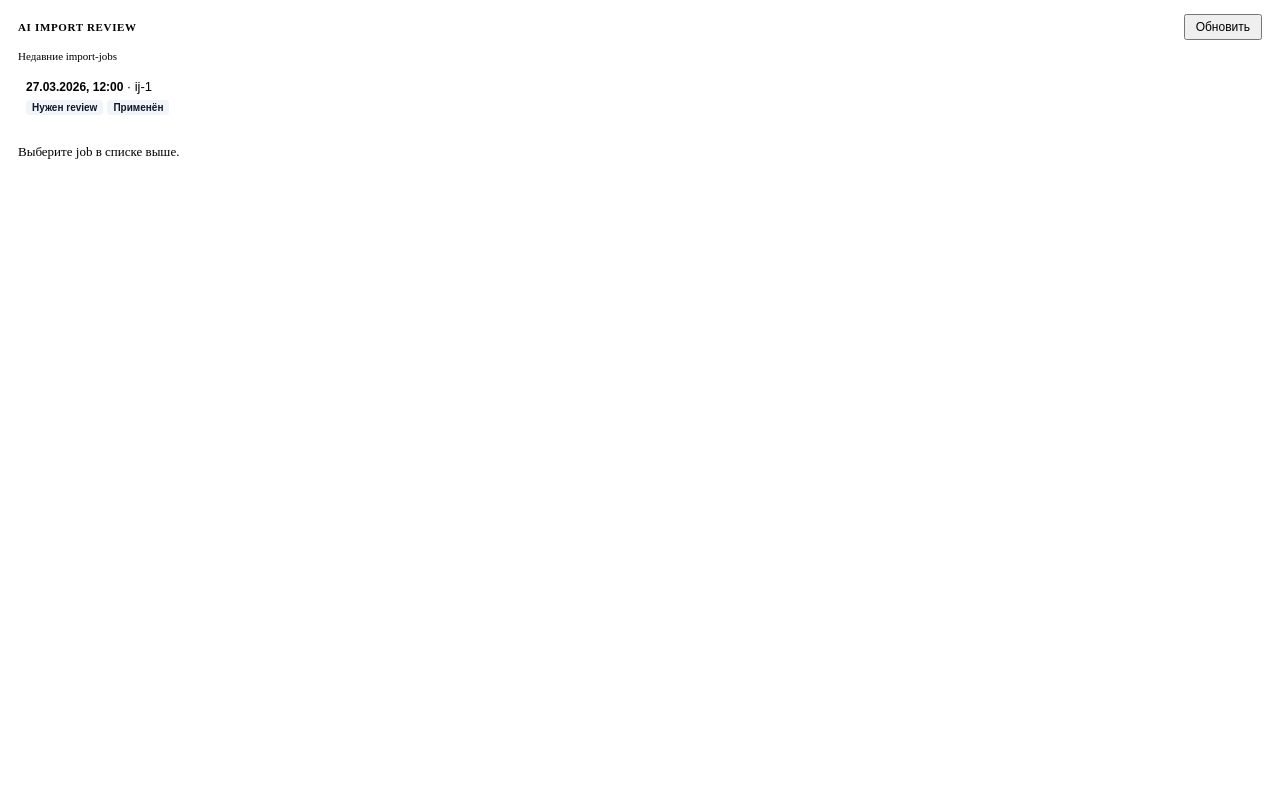
Test case: ImportReviewPanel integration › prepare candidate calls API after review applied
The image size is (1280, 796).
Later steps or results of the test are not shown.
Click the button with test id "ir-job-row-ij-1": (75, 86) x1=18 y1=70 x2=1262 y2=125
(page scrolled)
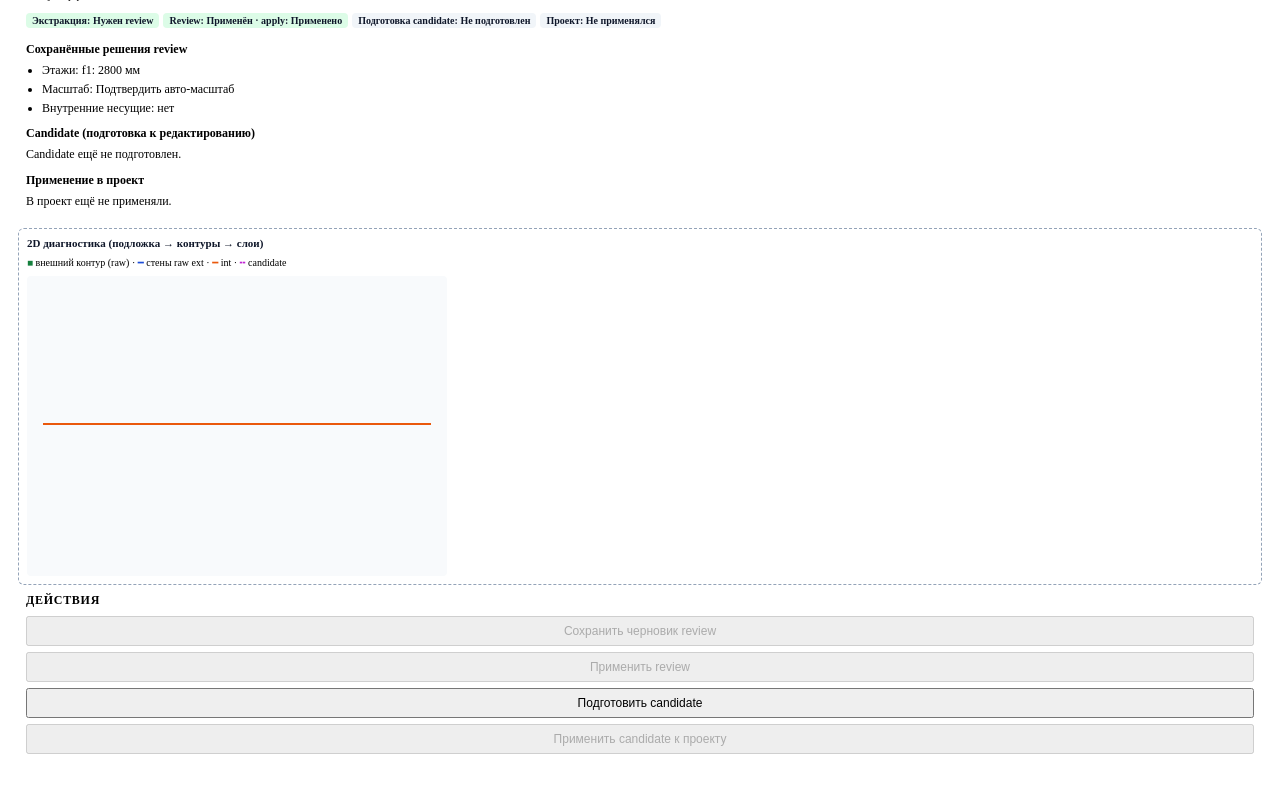
Now the button with test id "ir-prepare-candidate" is shown, box x1=26 y1=688 x2=1254 y2=718
